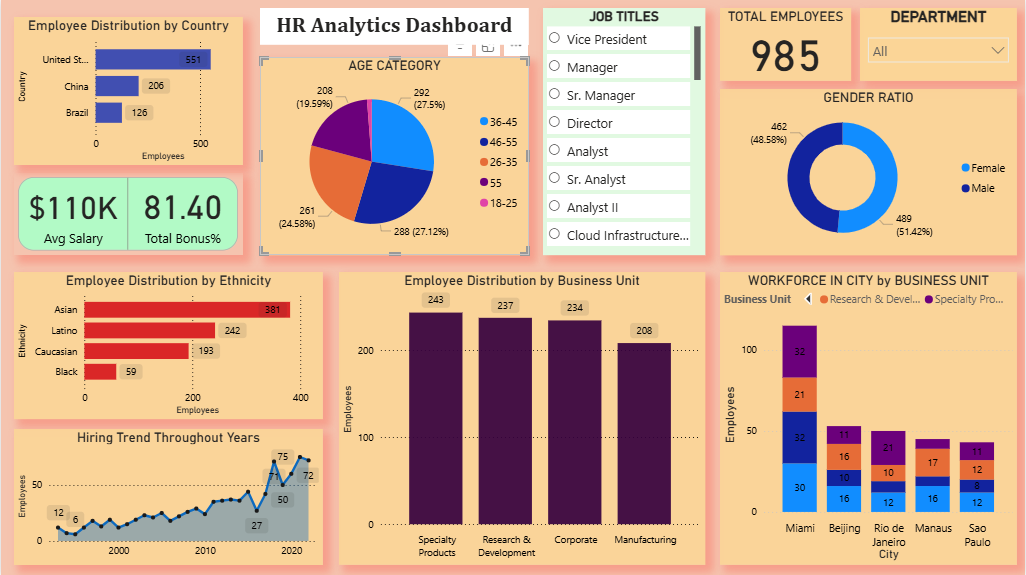

What the dashboard file says about the page in this screenshot:
{"tool":"powerbi","page":{"name":"Page 1","canvas":[1280,720],"ordinal":0},"visuals":[{"type":"card","title":"TOTAL EMPLOYEES","fields":{"Values":["Count(Employee Sample Data 1.Employee ID)"]},"box":[898.8,10,163.8,91.2],"z":1},{"type":"slicer","title":"DEPARTMENT","fields":{"Values":["Employee Sample Data 1.Department"]},"box":[1073.8,10,196.2,91.2],"z":2},{"type":"donutChart","title":"GENDER RATIO","fields":{"Category":["Employee Sample Data 1.Gender"],"Y":["Count(Employee Sample Data 1.Employee ID)"]},"box":[898.8,111.2,371.2,207.5],"z":3},{"type":"barChart","title":"Employee Distribution by Country","fields":{"Category":["Employee Sample Data 1.Country"],"Y":["Count(Employee Sample Data 1.Employee ID)"]},"box":[16.2,21.2,286.2,185],"z":4},{"type":"columnChart","title":"Employee Distribution by Business Unit","fields":{"Category":["Employee Sample Data 1.Business Unit"],"Y":["CountNonNull(Employee Sample Data 1.Business Unit)"]},"box":[422.5,340,457.5,366.2],"z":5},{"type":"cardVisual","fields":{"Data":["Avg(Employee Sample Data 1.Annual Salary)","Sum(Employee Sample Data 1.Bonus %)"]},"box":[16.2,216.2,286.2,102.5],"z":6},{"type":"columnChart","title":"WORKFORCE IN CITY by BUSINESS UNIT","fields":{"Category":["Employee Sample Data 1.City"],"Y":["CountNonNull(Employee Sample Data 1.Employee ID)"],"Series":["Employee Sample Data 1.Business Unit"]},"box":[898.8,340,371.2,366.2],"z":7},{"type":"pieChart","title":"AGE CATEGORY","fields":{"Category":["Employee Sample Data 1.AGE CATEGORY"],"Y":["CountNonNull(Employee Sample Data 1.Employee ID)"]},"box":[323.8,71.2,336.2,247.5],"z":8},{"type":"barChart","title":"Employee Distribution by Ethnicity","fields":{"Y":["Count(Employee Sample Data 1.Employee ID)"],"Category":["Employee Sample Data 1.Ethnicity"]},"box":[16.2,340,386.2,183.8],"z":9},{"type":"listSlicer","title":"JOB TITLES","fields":{"Values":["Employee Sample Data 1.Job Title"]},"box":[677.5,10,202.5,308.8],"z":10},{"type":"areaChart","title":"Hiring Trend Throughout Years","fields":{"Category":["Employee Sample Data 1.Hire Date.Variation.Date Hierarchy.Year"],"Y":["CountNonNull(Employee Sample Data 1.Employee ID)"]},"box":[16.2,536.2,386.2,170],"z":11},{"type":"textbox","box":[323.8,10,336.2,46.2],"z":12}]}

Visuals, with their boxes in screenshot pixels (x1, y1, x2, y2), scaled from the page's 1280x720 canvas onto the 1026x575 screenshot:
"TOTAL EMPLOYEES" card: 720:8:852:81
"DEPARTMENT" slicer: 861:8:1018:81
"GENDER RATIO" donutChart: 720:89:1018:255
"Employee Distribution by Country" barChart: 13:17:242:165
"Employee Distribution by Business Unit" columnChart: 339:272:705:564
cardVisual - Avg(Employee Sample Data 1.Annual Salary) x Sum(Employee Sample Data 1.Bonus %): 13:173:242:255
"WORKFORCE IN CITY by BUSINESS UNIT" columnChart: 720:272:1018:564
"AGE CATEGORY" pieChart: 260:57:529:255
"Employee Distribution by Ethnicity" barChart: 13:272:323:418
"JOB TITLES" listSlicer: 543:8:705:255
"Hiring Trend Throughout Years" areaChart: 13:428:323:564
textbox: 260:8:529:45
